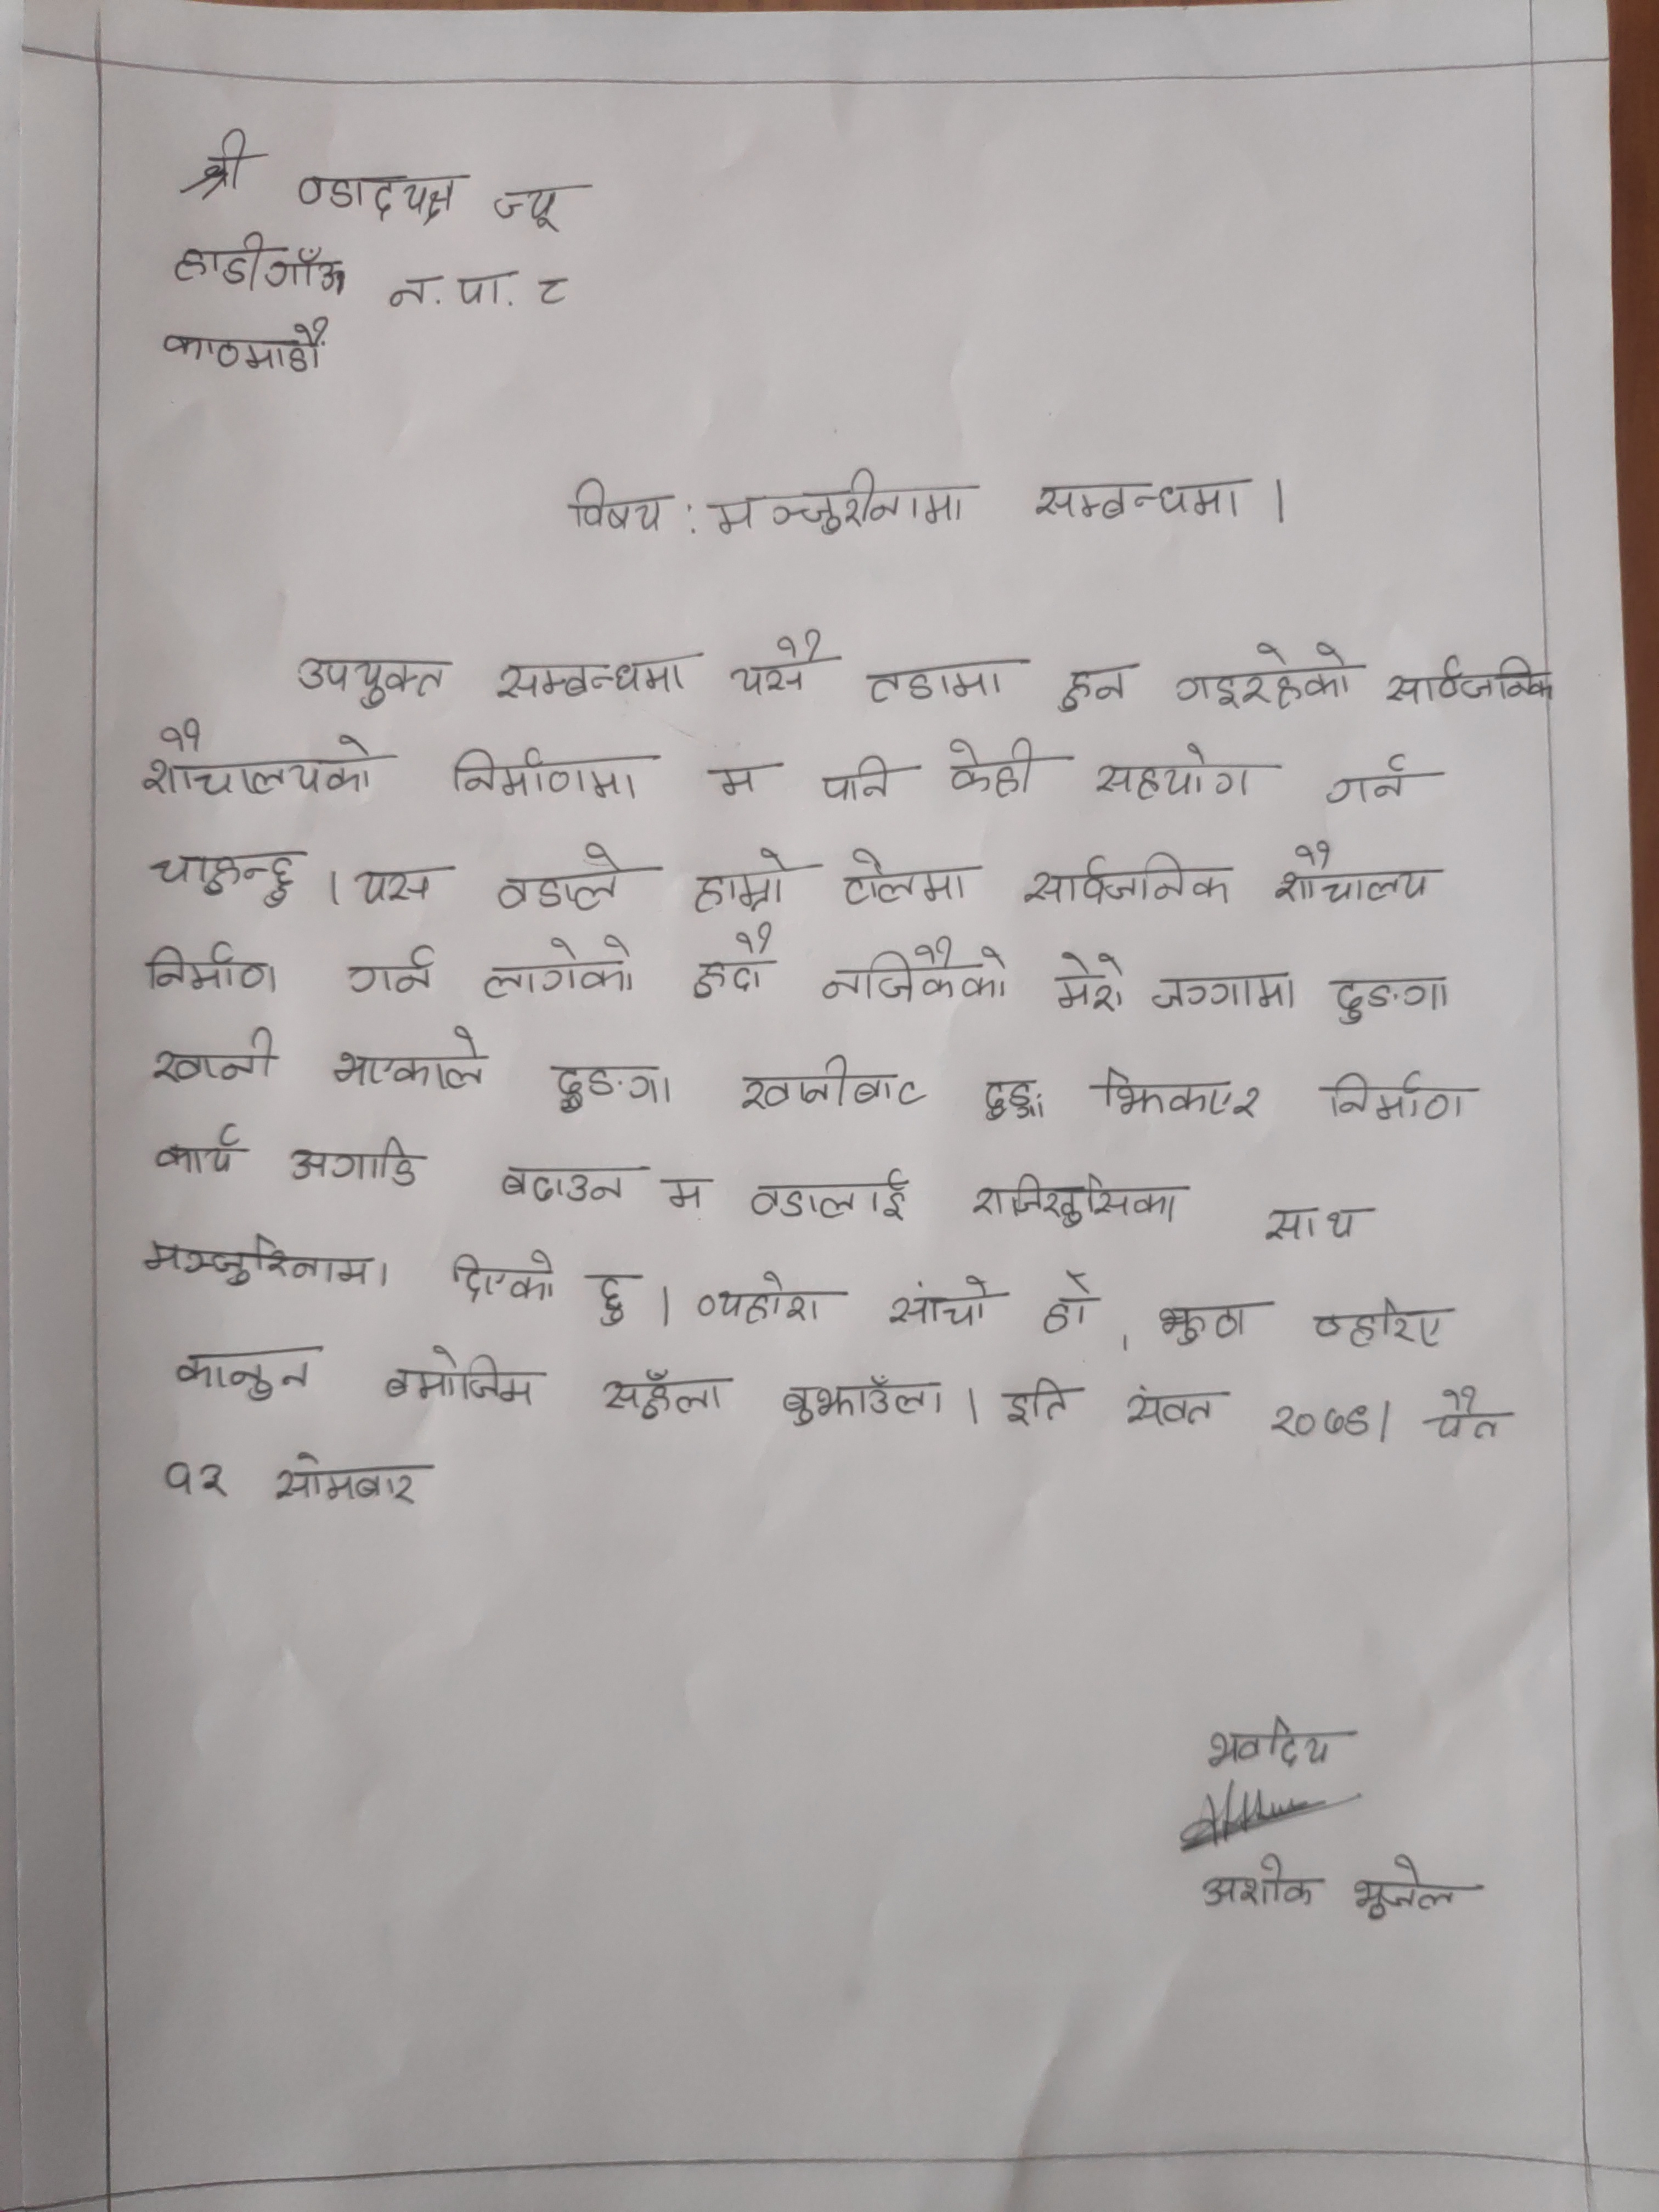text: (138, 716, 380, 808), (708, 465, 979, 542), (134, 1223, 399, 1301), (819, 934, 1019, 1010), (967, 1169, 1188, 1233), (1171, 634, 1356, 711), (734, 1050, 936, 1120), (1026, 465, 1251, 526), (1021, 848, 1236, 911), (444, 738, 647, 805), (739, 1163, 924, 1233), (322, 1021, 497, 1094), (167, 1327, 319, 1407), (159, 314, 331, 383), (477, 932, 641, 1005), (1274, 841, 1445, 911), (490, 643, 688, 702), (1089, 738, 1260, 806), (169, 235, 354, 298), (1094, 1062, 1269, 1129), (382, 1343, 549, 1411), (286, 648, 453, 714), (1328, 1064, 1485, 1134), (491, 843, 638, 916), (291, 167, 469, 226), (148, 845, 308, 909), (833, 843, 972, 916), (861, 643, 1011, 711), (267, 1449, 429, 1512), (1384, 650, 1560, 707), (775, 1371, 957, 1426), (282, 1134, 430, 1198), (1206, 1709, 1345, 1777), (136, 935, 279, 1001), (145, 1024, 277, 1094), (1305, 1292, 1448, 1357), (694, 1270, 842, 1331), (1344, 1853, 1473, 1923), (690, 843, 807, 918), (1199, 1848, 1321, 1919), (598, 1362, 732, 1426), (540, 1054, 681, 1115), (1324, 965, 1453, 1031), (1150, 956, 1298, 1012), (448, 1247, 572, 1313), (683, 921, 781, 1000), (491, 1155, 638, 1207), (387, 261, 523, 317), (882, 1270, 999, 1334), (725, 632, 833, 698), (565, 475, 676, 538), (146, 1120, 254, 1184), (1143, 1291, 1263, 1346), (939, 732, 1040, 798), (1251, 1195, 1373, 1249), (1044, 946, 1131, 1021), (1424, 1379, 1509, 1453), (1121, 1379, 1225, 1437), (343, 944, 443, 1003), (183, 124, 260, 200), (1321, 751, 1417, 812), (1269, 1392, 1377, 1444), (490, 176, 584, 235), (1051, 655, 1131, 721), (1037, 1264, 1101, 1343), (343, 860, 443, 911), (995, 1371, 1079, 1430), (816, 752, 901, 810), (971, 1073, 1051, 1127), (160, 1449, 234, 1505), (580, 1263, 633, 1332), (697, 759, 772, 805), (528, 265, 579, 319), (660, 1170, 711, 1221)
